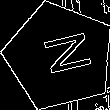N_W: (29, 31, 90, 82)
